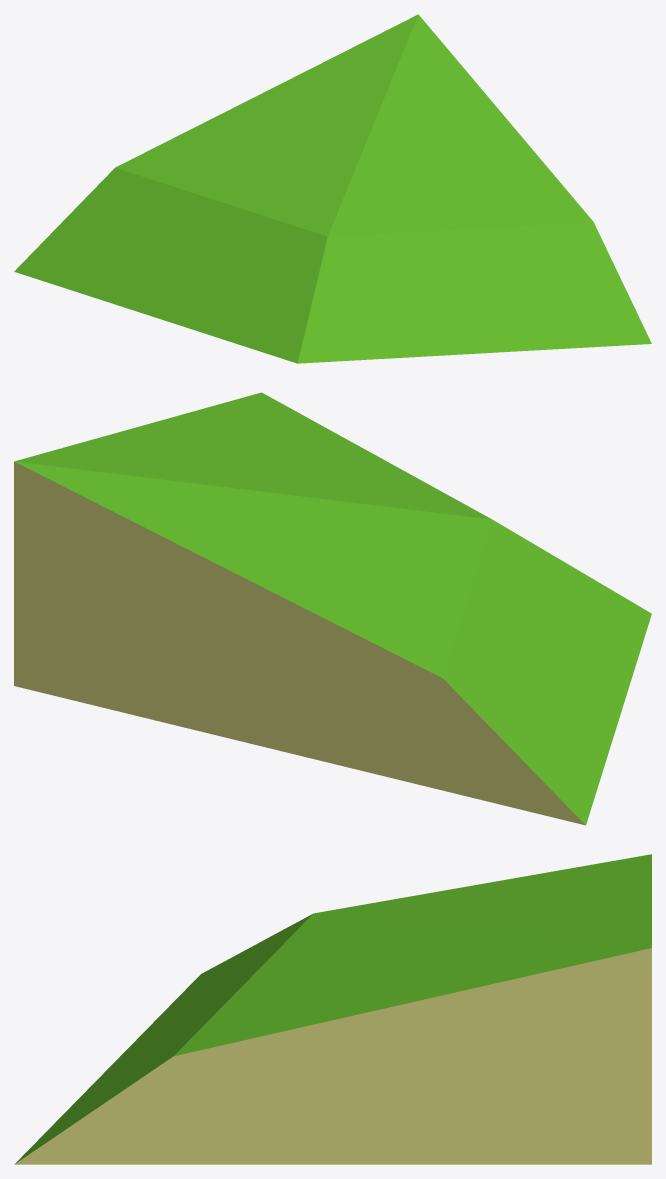
The model's file is Grass_Carpet_Curve_Outer_1x1.glb.
The picture shows the model from 3 angles, top to bottom: view 1: azimuth 30°, elevation 25°; view 2: azimuth 150°, elevation 25°; view 3: azimuth 270°, elevation 25°; orthographic projection. The views are drawn at different scales.
Visible parts, largest first — view 1: Grass_Carpet_Curve_Outer_1x1; view 2: Grass_Carpet_Curve_Outer_1x1; view 3: Grass_Carpet_Curve_Outer_1x1.
Boxes of the visible parts, x1,y1,x2,y2 form: Grass_Carpet_Curve_Outer_1x1: (14,14,651,363); Grass_Carpet_Curve_Outer_1x1: (14,392,651,825); Grass_Carpet_Curve_Outer_1x1: (14,854,651,1164).
Size of the model in its own units: 66.67 by 25 by 66.67.
